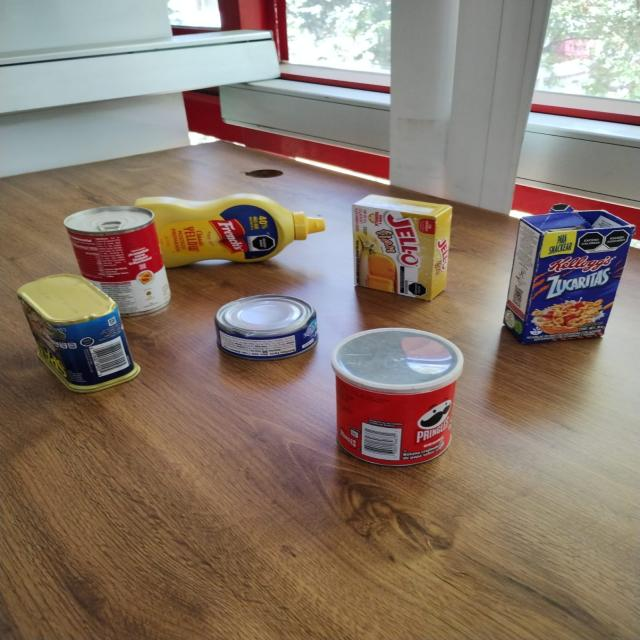can of cream: (63, 206, 171, 317)
can of tuna: (213, 293, 316, 361)
cereal: (502, 203, 632, 343)
chips: (330, 329, 462, 463)
jelly: (349, 194, 450, 302)
mustard: (134, 195, 323, 265)
spam: (13, 275, 137, 391)
